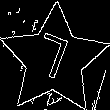L_S: (32, 31, 76, 89)
